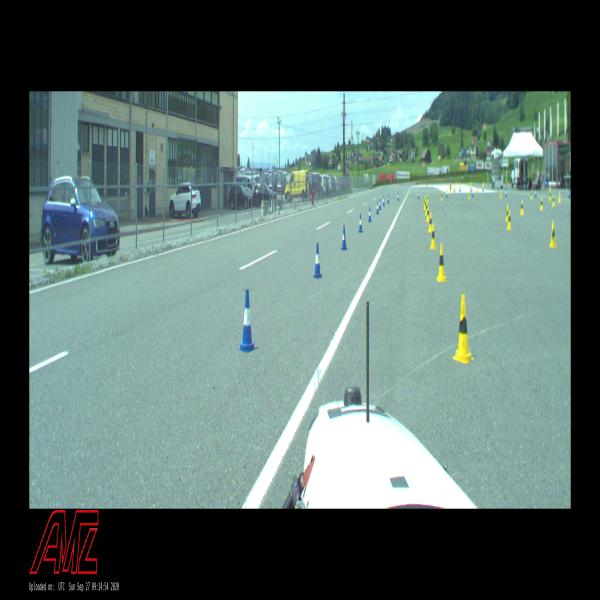blue_cone: (238, 289, 255, 352), (312, 242, 321, 278), (341, 225, 347, 250), (358, 214, 363, 232), (368, 206, 372, 222), (376, 201, 379, 214), (387, 194, 390, 204), (379, 199, 381, 210), (383, 196, 385, 206), (398, 193, 400, 201), (505, 188, 507, 196), (418, 191, 419, 199)
yellow_cone: (454, 296, 474, 364), (437, 244, 446, 280), (550, 222, 556, 246), (431, 224, 436, 249), (425, 200, 429, 215), (508, 210, 511, 229), (429, 212, 432, 231), (426, 206, 429, 222), (506, 205, 509, 220), (540, 198, 543, 209), (521, 200, 523, 214), (552, 195, 554, 206), (424, 196, 426, 206), (424, 200, 426, 210), (426, 194, 428, 203), (559, 193, 561, 202), (500, 189, 502, 198), (550, 189, 551, 200), (441, 191, 442, 200)
